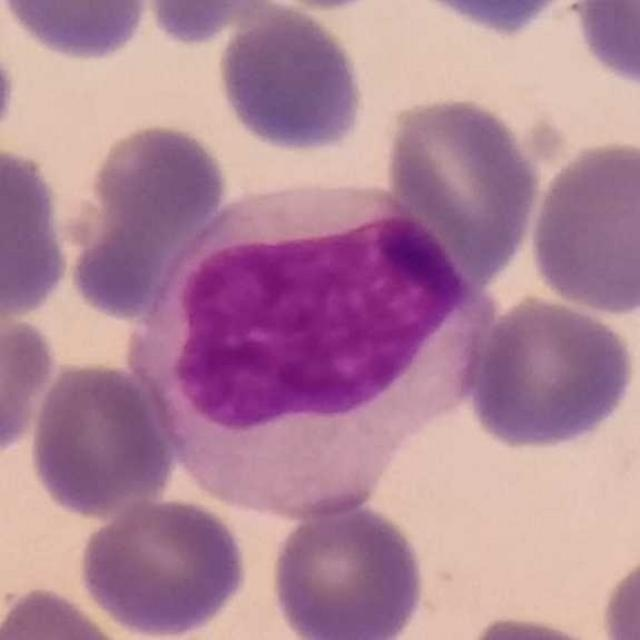Lymphocyte: (124, 174, 493, 520)
RBC: (381, 91, 544, 286), (463, 293, 640, 453), (24, 357, 180, 521), (76, 494, 250, 639), (212, 4, 370, 156), (265, 498, 429, 640), (524, 135, 640, 318), (81, 120, 233, 237), (0, 141, 75, 323), (1, 0, 154, 66), (0, 298, 59, 462), (0, 582, 137, 640), (392, 0, 591, 39), (134, 0, 282, 50), (569, 0, 640, 91), (452, 610, 621, 640), (597, 544, 640, 639), (0, 49, 19, 137)
